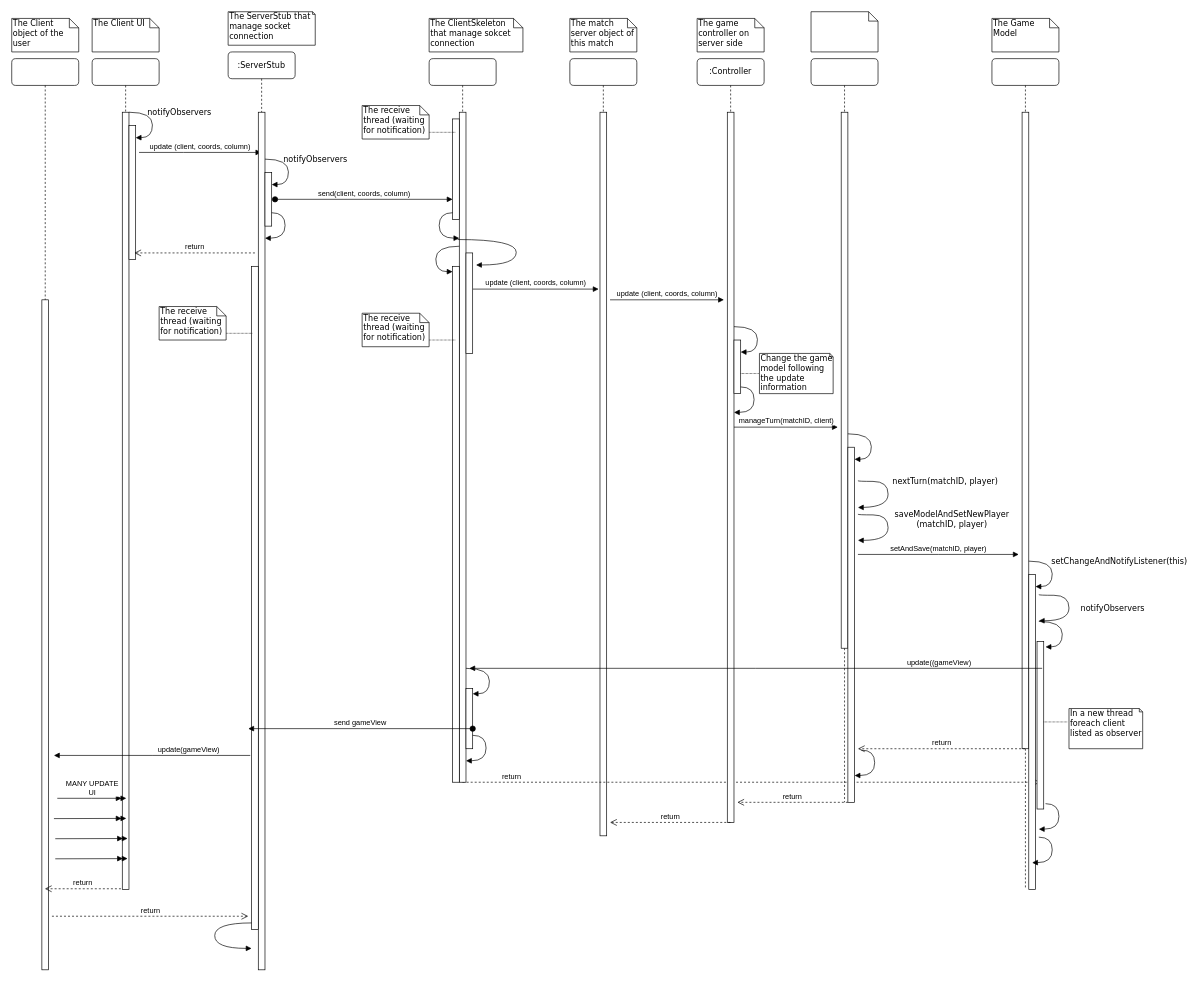
This 1199x982 diagram has some shape labels left out. Each missing label, with the box of its shape:
:Client: (11, 58, 79, 970)
:ClientSkeleton: (428, 58, 496, 782)
:Game: (991, 58, 1059, 889)
:Server: (569, 58, 637, 836)
:TurnHandler: (810, 58, 878, 802)
:View: (91, 58, 159, 889)
The TurnHandler of this game controller: (810, 11, 878, 52)
